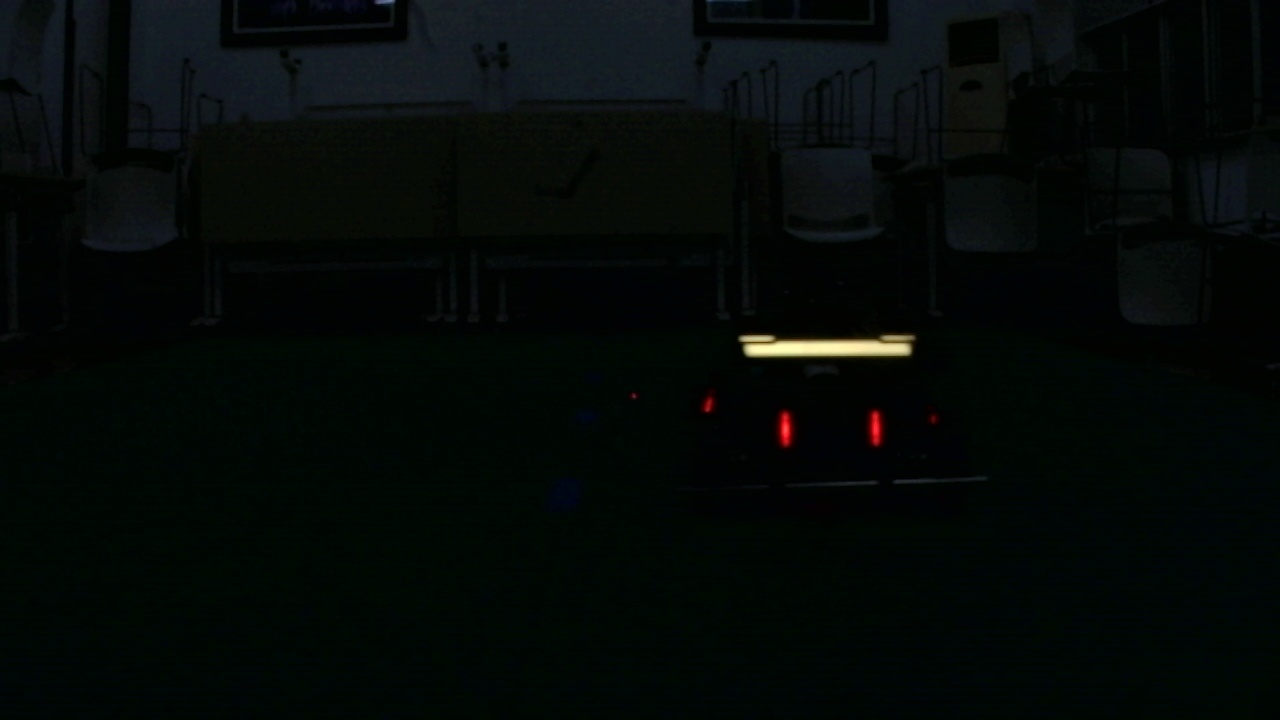lamp: (777, 406, 794, 448), (869, 409, 886, 449)
pair1: (779, 413, 882, 447)
